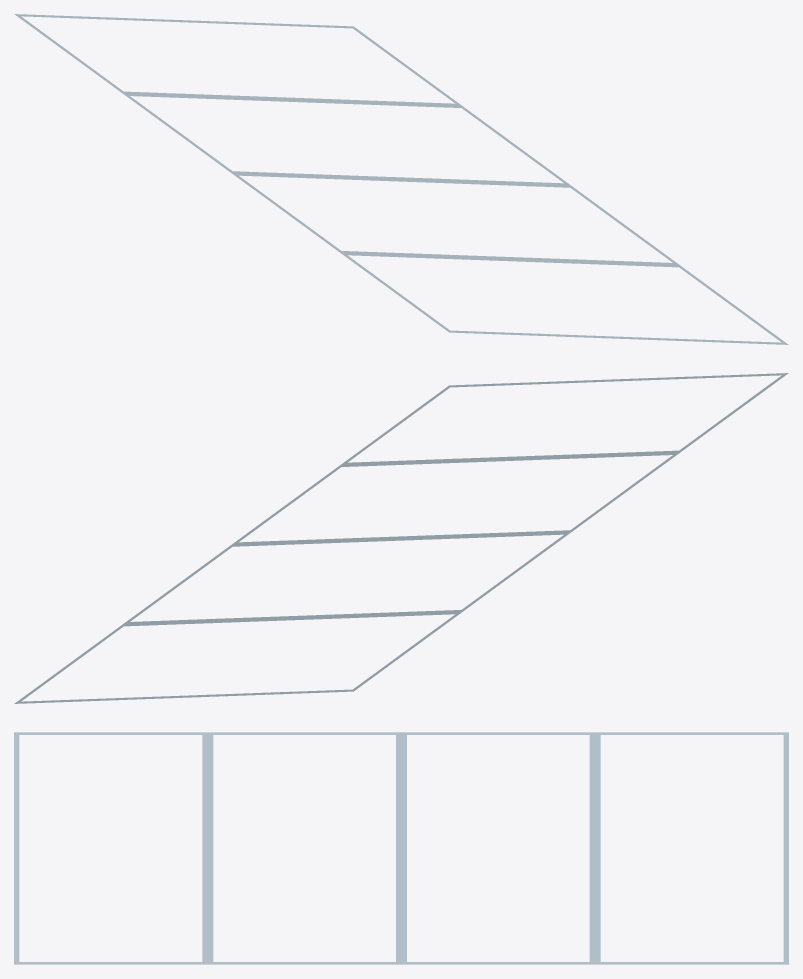
File: kd_stage_135c43_4_70_bounded_piece_3.glb
3 renders of one model, top to bottom at view 1: azimuth 30°, elevation 25°; view 2: azimuth 150°, elevation 25°; view 3: azimuth 270°, elevation 25°, orthographic. The views are drawn at different scales.
Parts seen in each view (by area): view 1: kd_stage_135c43_4_70_bounded_piece_3; view 2: kd_stage_135c43_4_70_bounded_piece_3; view 3: kd_stage_135c43_4_70_bounded_piece_3.
Part boxes in pixels (left/top/right/bottom): kd_stage_135c43_4_70_bounded_piece_3: left=14, top=14, right=788, bottom=344; kd_stage_135c43_4_70_bounded_piece_3: left=14, top=373, right=788, bottom=703; kd_stage_135c43_4_70_bounded_piece_3: left=14, top=732, right=788, bottom=964.
Size of the model in its own units: 1.35 by 0.3623 by 3.
1 material, 1 textured.
